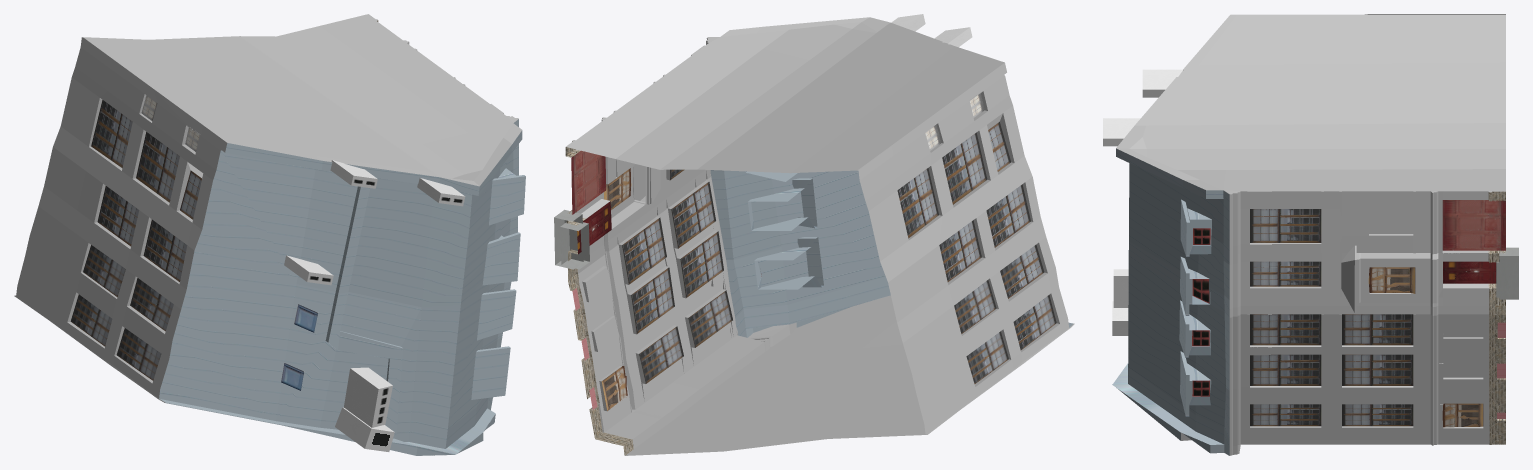
Rendered from Vene_31-origo.obj.
3 renders of one model, left to right at view 1: azimuth 30°, elevation 25°; view 2: azimuth 150°, elevation 25°; view 3: azimuth 270°, elevation 25°, orthographic. The views are drawn at different scales.
Parts seen in each view (by area): view 1: polySurface1; view 2: polySurface1; view 3: polySurface1.
Boxes of the visible parts, x1,y1,x2,y2 form: polySurface1: (14, 14, 525, 455); polySurface1: (554, 14, 1074, 455); polySurface1: (1103, 14, 1518, 455).
Size of the model in its own units: 20.69 by 18 by 21.24.
